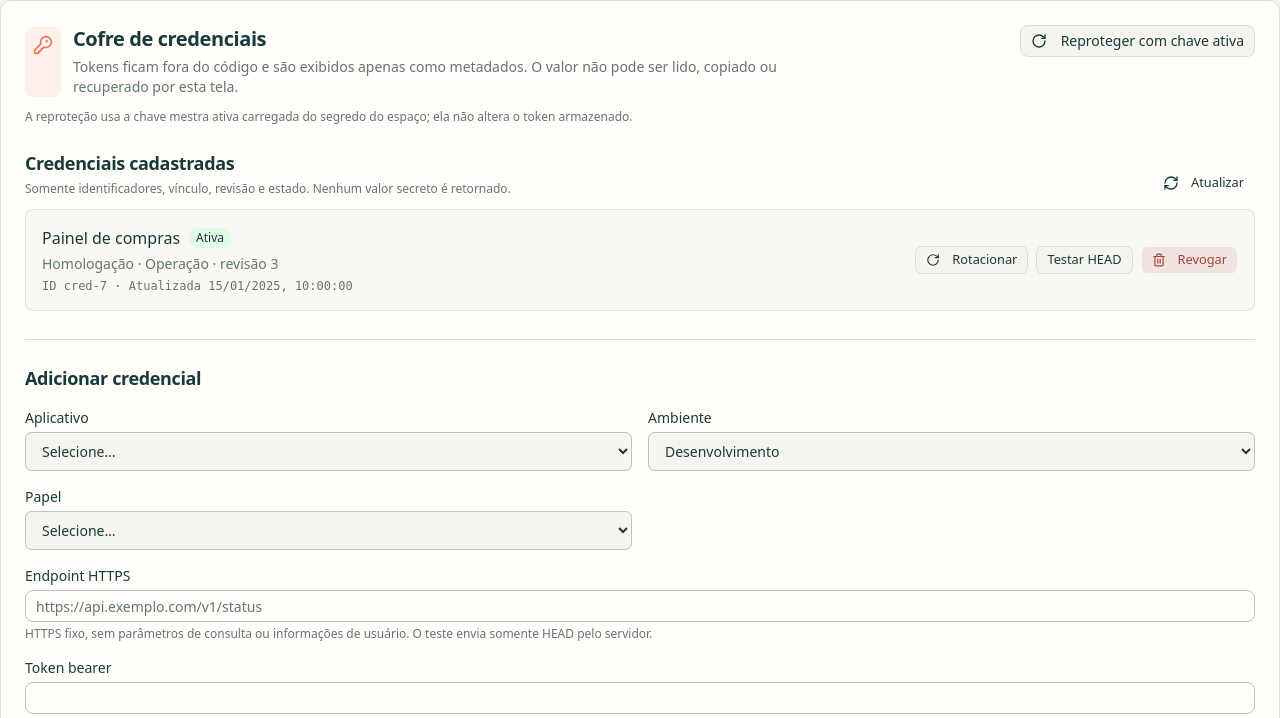
it: HEAD check and rewrap display only status and metadata receipts
Click the button "Testar HEAD" at [1084, 260], box [1036,246,1132,274]
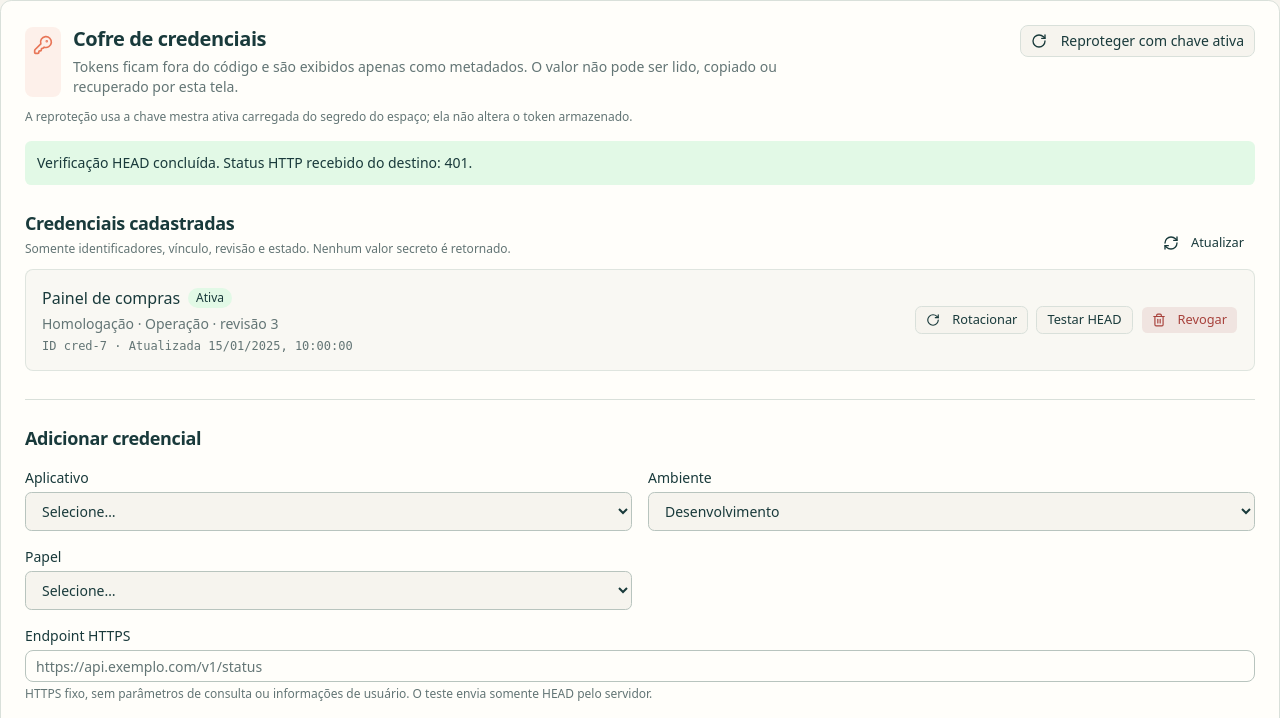
Result: the text "Verificação HEAD concluída. Status HTTP recebido do destino: 401." is shown at [25,141,1255,185]
Click the button "Reproteger com chave ativa" at [1137, 41], box [1020,25,1255,57]
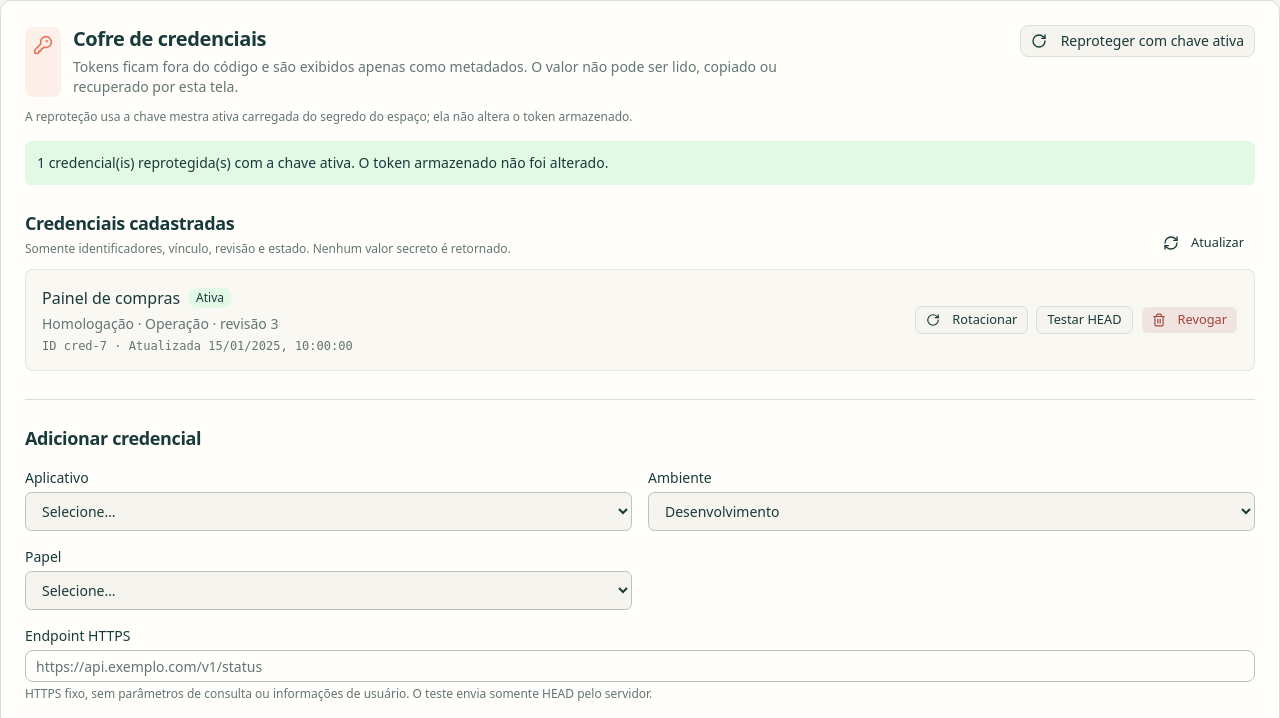
Result: the text "1 credencial(is) reprotegida" is shown at [37,153,608,172]
